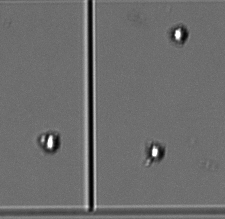Living Cell: (39, 128, 61, 154), (171, 23, 189, 46), (146, 140, 164, 160)
